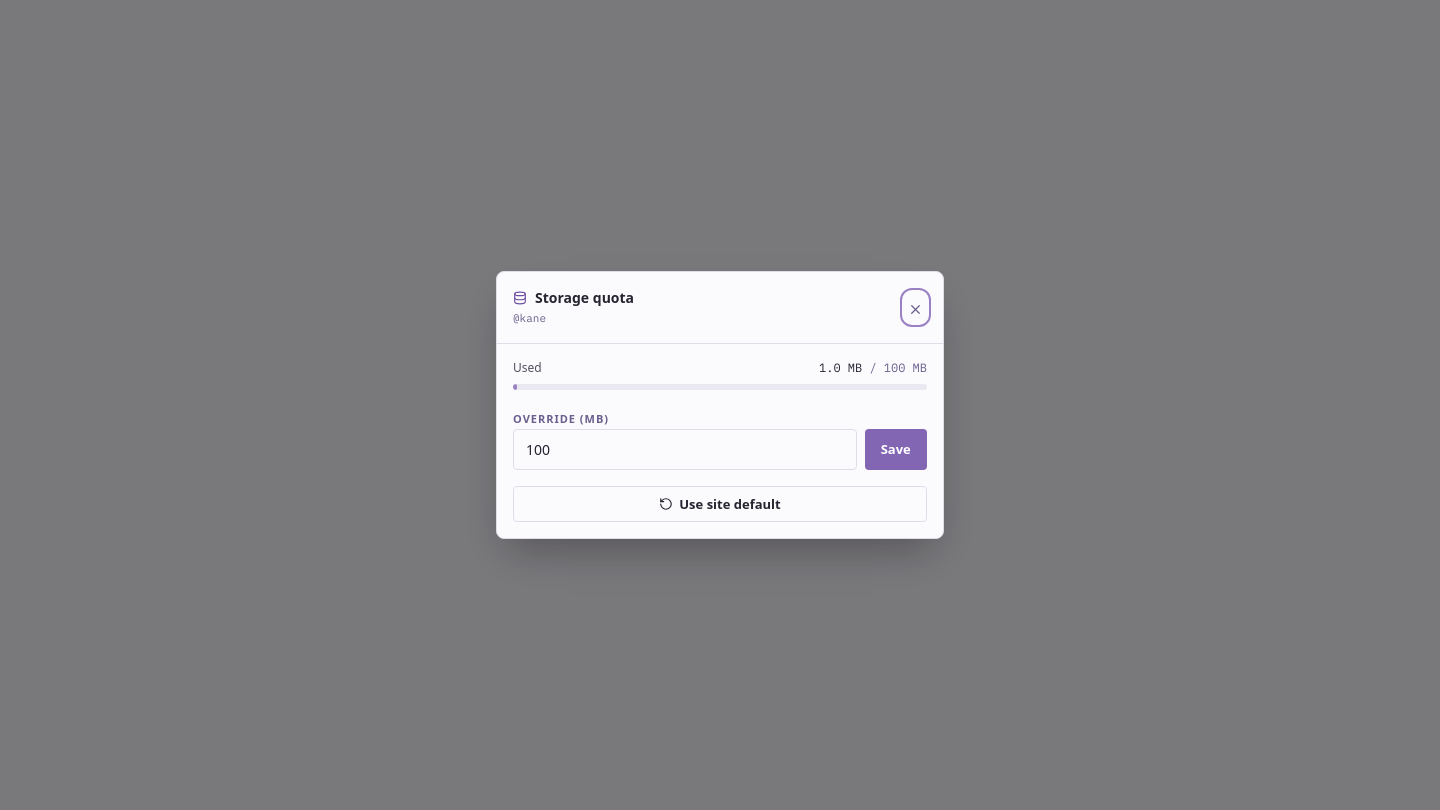
QuotaModal › surfaces a save failure
Replace the text in the number field labelled "Override (MB)" with "10" at (685, 450), box [513,429,856,470]
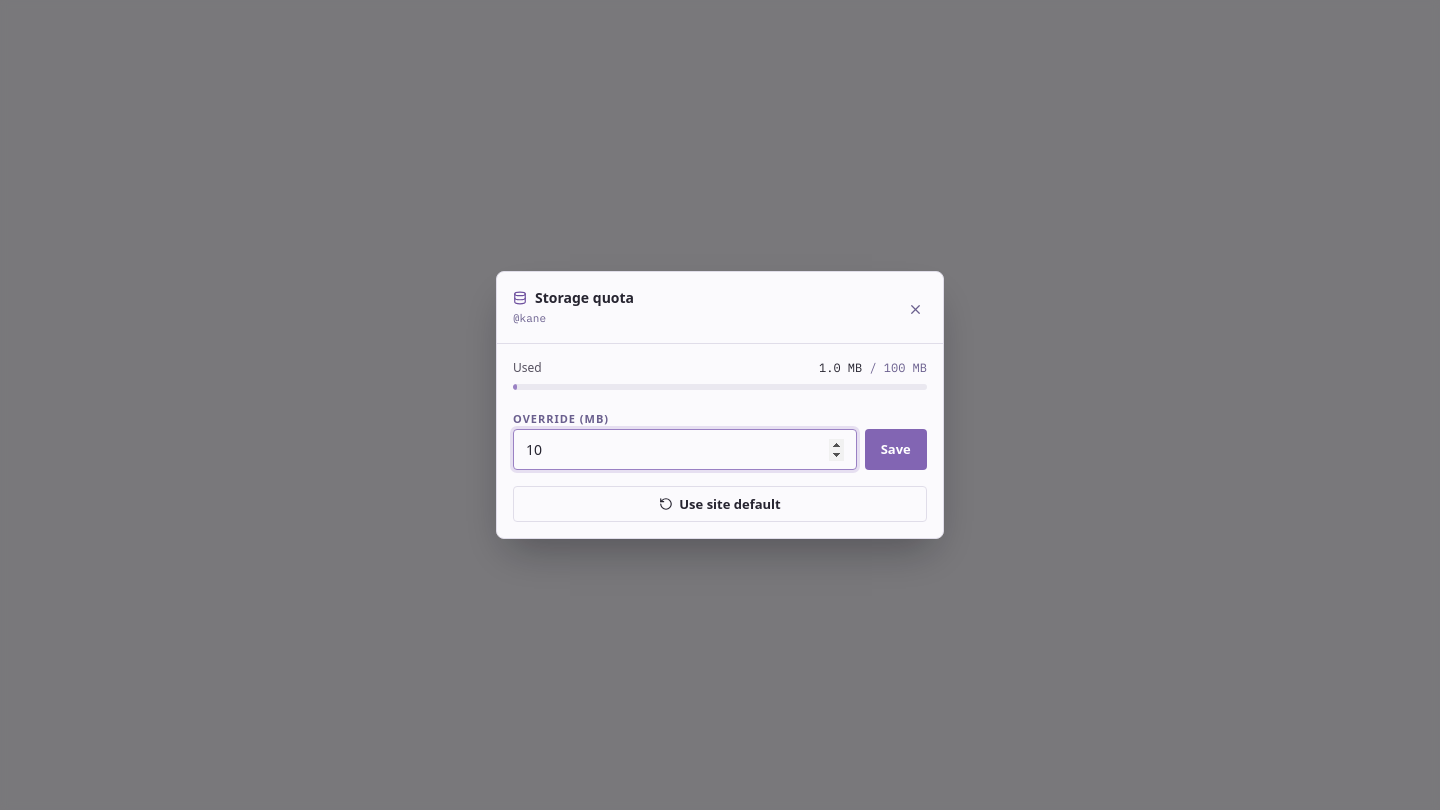
Click the button "Save" at (896, 450), box [864,429,927,470]
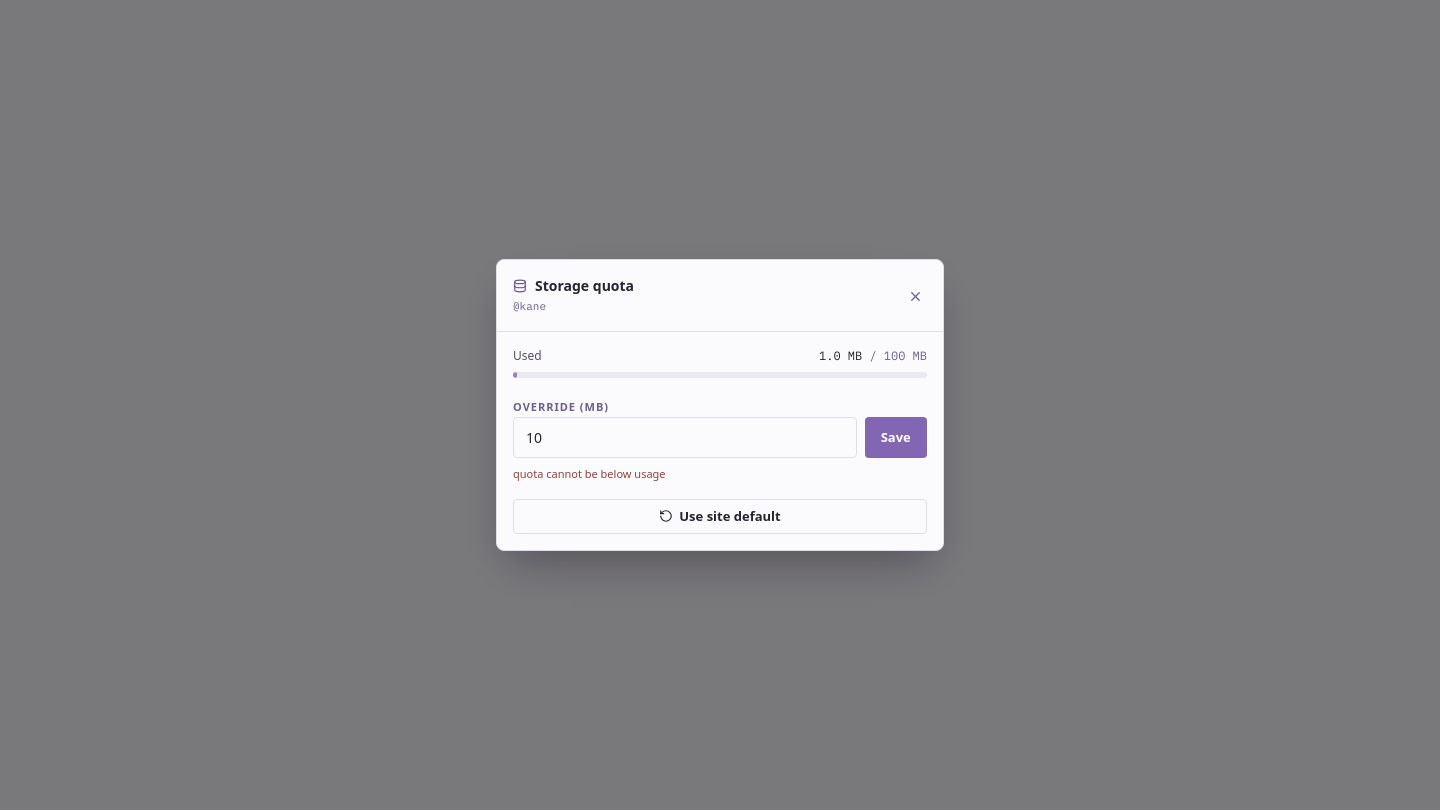
Expected: the text "quota cannot be below usage" is shown, [513,466,666,481]
